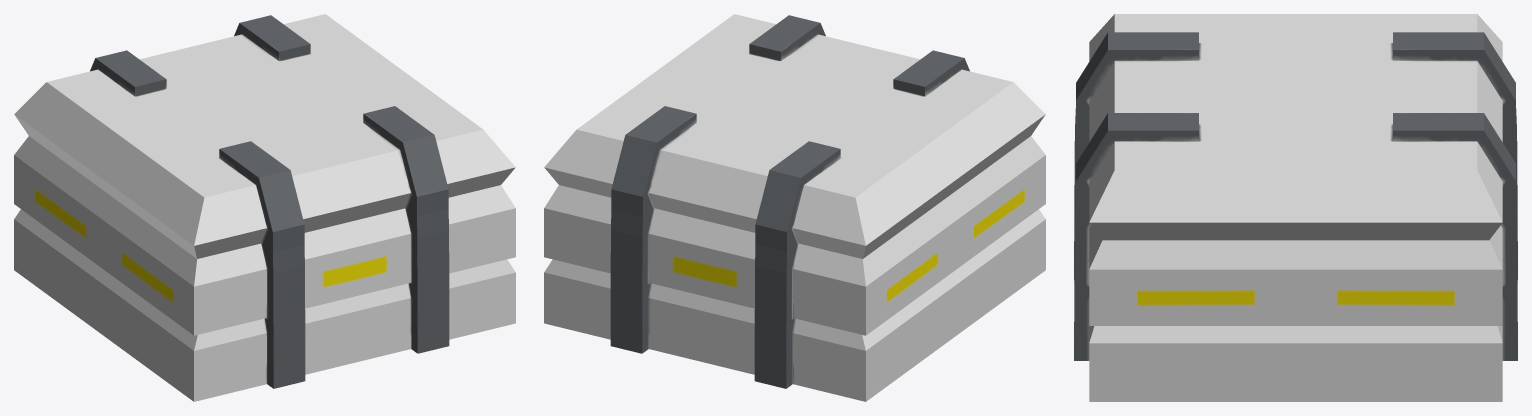
The model's file is Wall_A02.fbx.
3 views of the same model, side by side, from view 1: azimuth 30°, elevation 25°; view 2: azimuth 150°, elevation 25°; view 3: azimuth 270°, elevation 25° (orthographic). The views are drawn at different scales.
Parts seen in each view (by area): view 1: P_Wall_A; view 2: P_Wall_A; view 3: P_Wall_A.
Boxes of the visible parts, x1,y1,x2,y2 form: P_Wall_A: (14,14,515,401); P_Wall_A: (544,14,1045,401); P_Wall_A: (1074,14,1517,401).
Bounding box in the file's own units: 9.62 × 5.72 × 10.
1 material, 1 textured.
